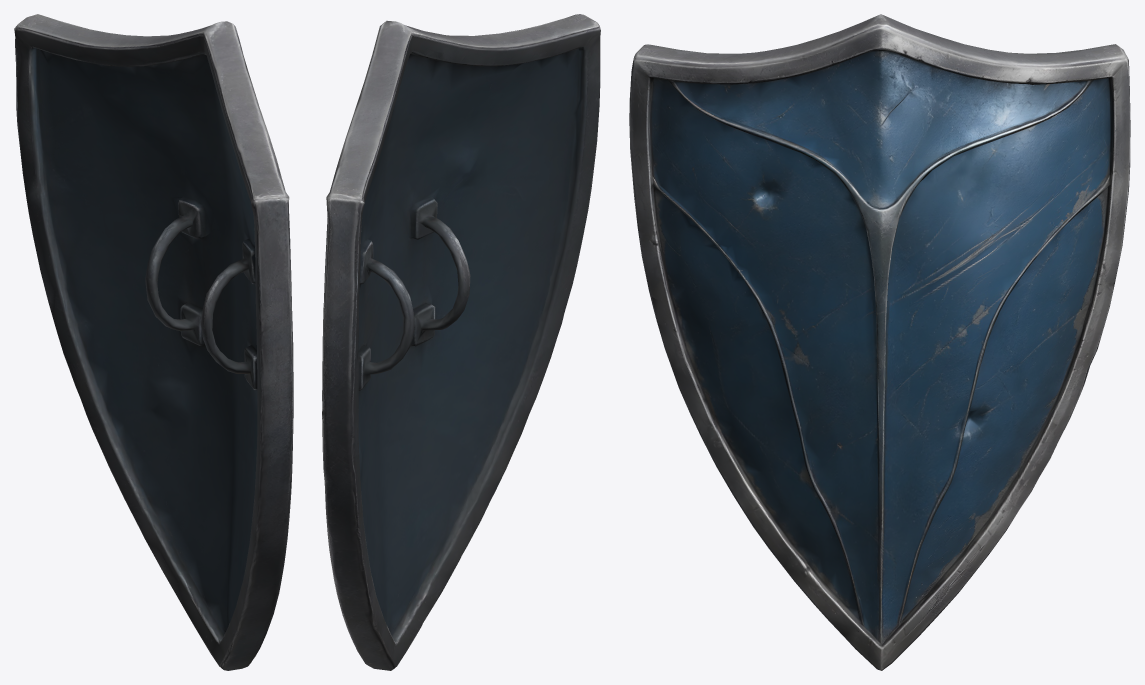
The model's file is s_plank.glb.
3 renders of one model, left to right at view 1: azimuth 30°, elevation 25°; view 2: azimuth 150°, elevation 25°; view 3: azimuth 270°, elevation 25°, orthographic.
Visible parts, largest first — view 1: tripo_node_49c71f34-36fe-4905-96dd-3bc1f66d4ccc; view 2: tripo_node_49c71f34-36fe-4905-96dd-3bc1f66d4ccc; view 3: tripo_node_49c71f34-36fe-4905-96dd-3bc1f66d4ccc.
Part boxes in pixels (left/top/right/bottom): tripo_node_49c71f34-36fe-4905-96dd-3bc1f66d4ccc: left=14, top=14, right=293, bottom=670; tripo_node_49c71f34-36fe-4905-96dd-3bc1f66d4ccc: left=322, top=14, right=600, bottom=670; tripo_node_49c71f34-36fe-4905-96dd-3bc1f66d4ccc: left=629, top=14, right=1130, bottom=670.
Bounding box in the file's own units: 0.2015 × 1 × 0.7073.
Materials: 1 (1 with a texture image).
